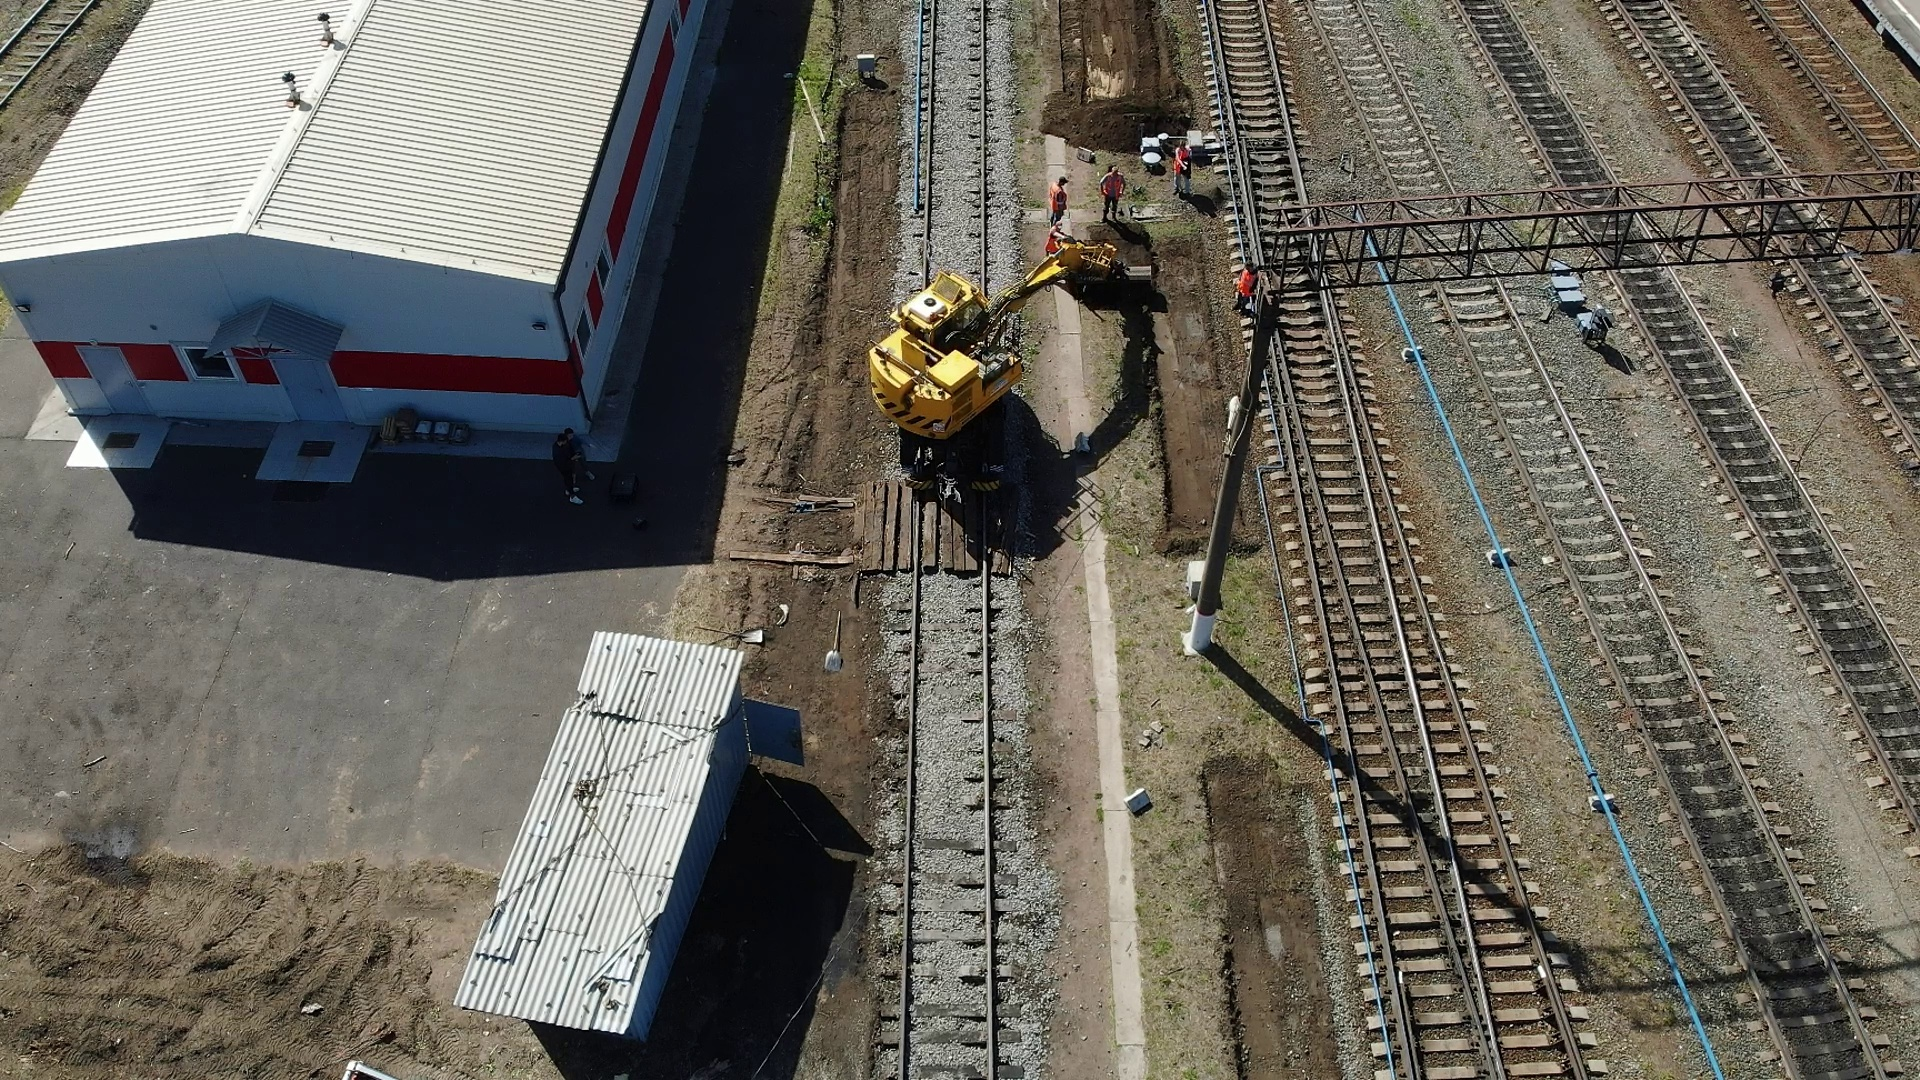kjtv: (866, 251, 1050, 458)
